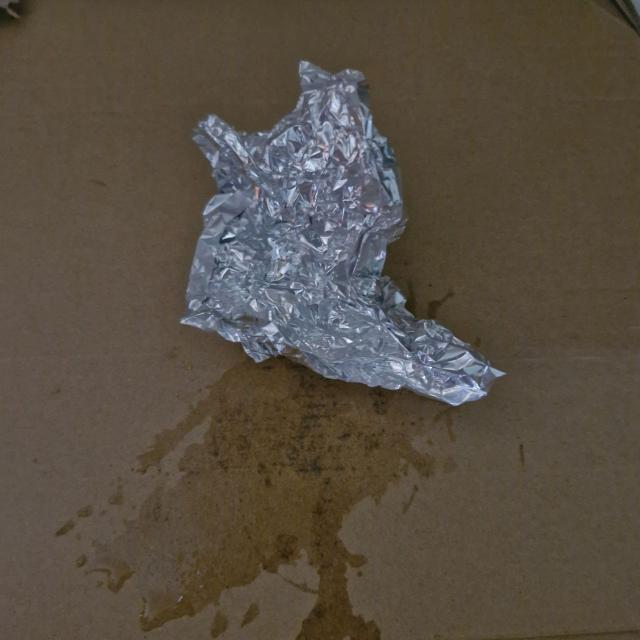metal: (182, 53, 506, 409)
